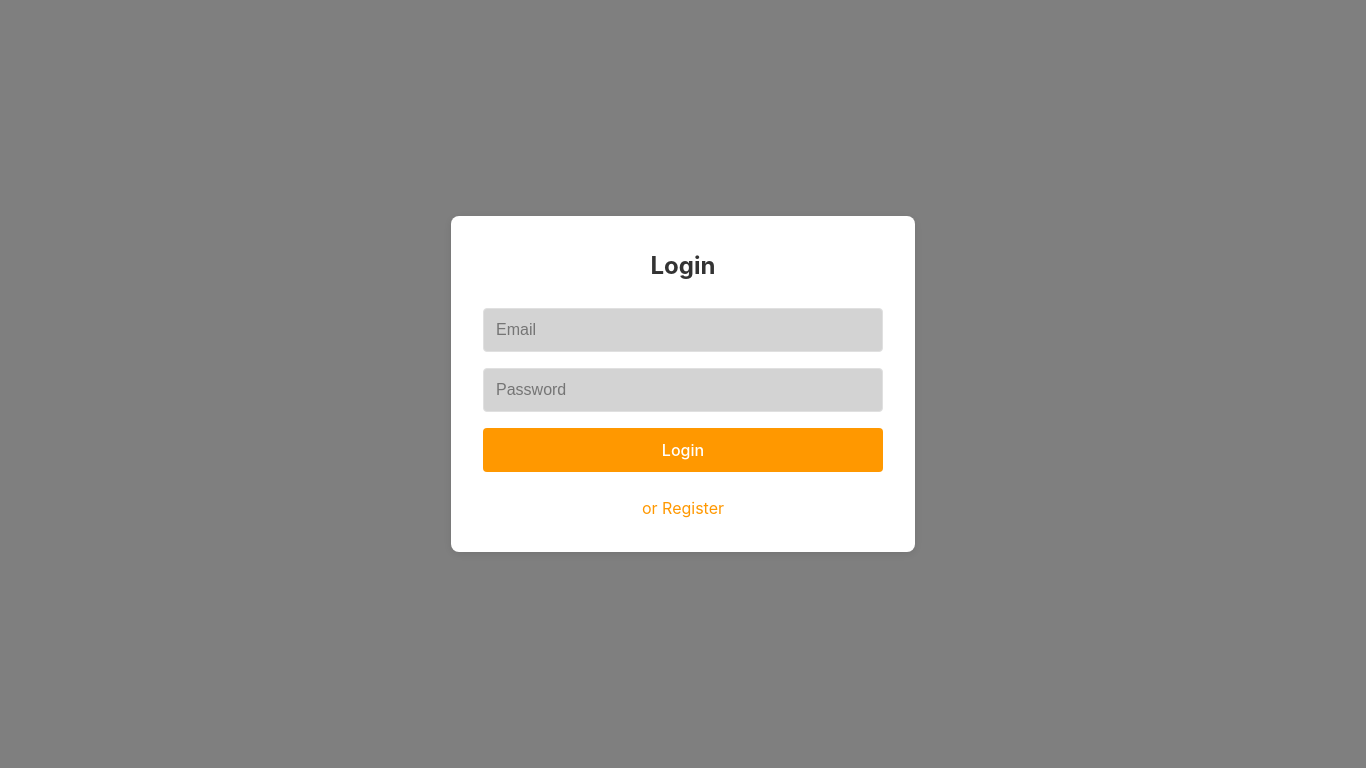
Scenario: AuthModal Component › switches to register form when toggle is clicked
This screenshot has width=1366, height=768.
Click the text "or Register".
click(683, 508)  # box [642,498,724,518]
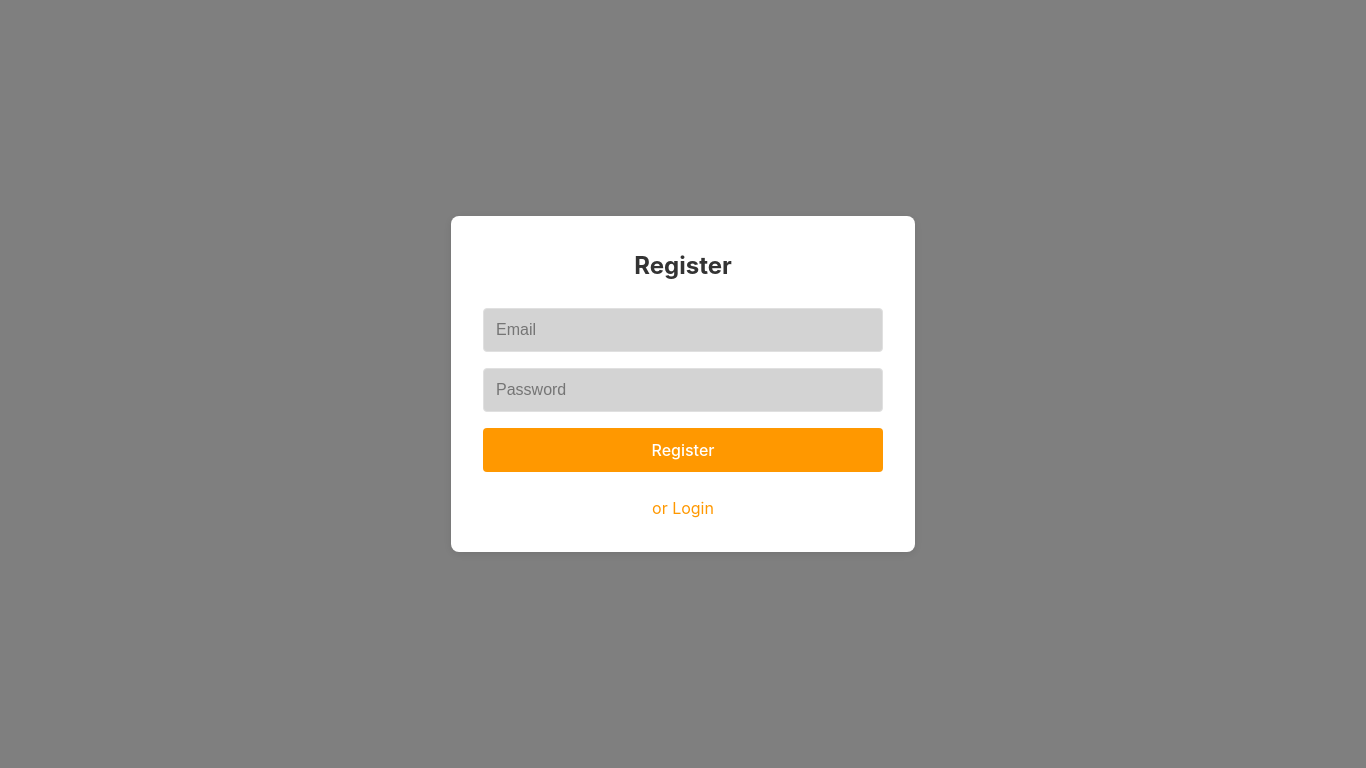
Now the heading "Register" is shown, box [634,251,732,280]
